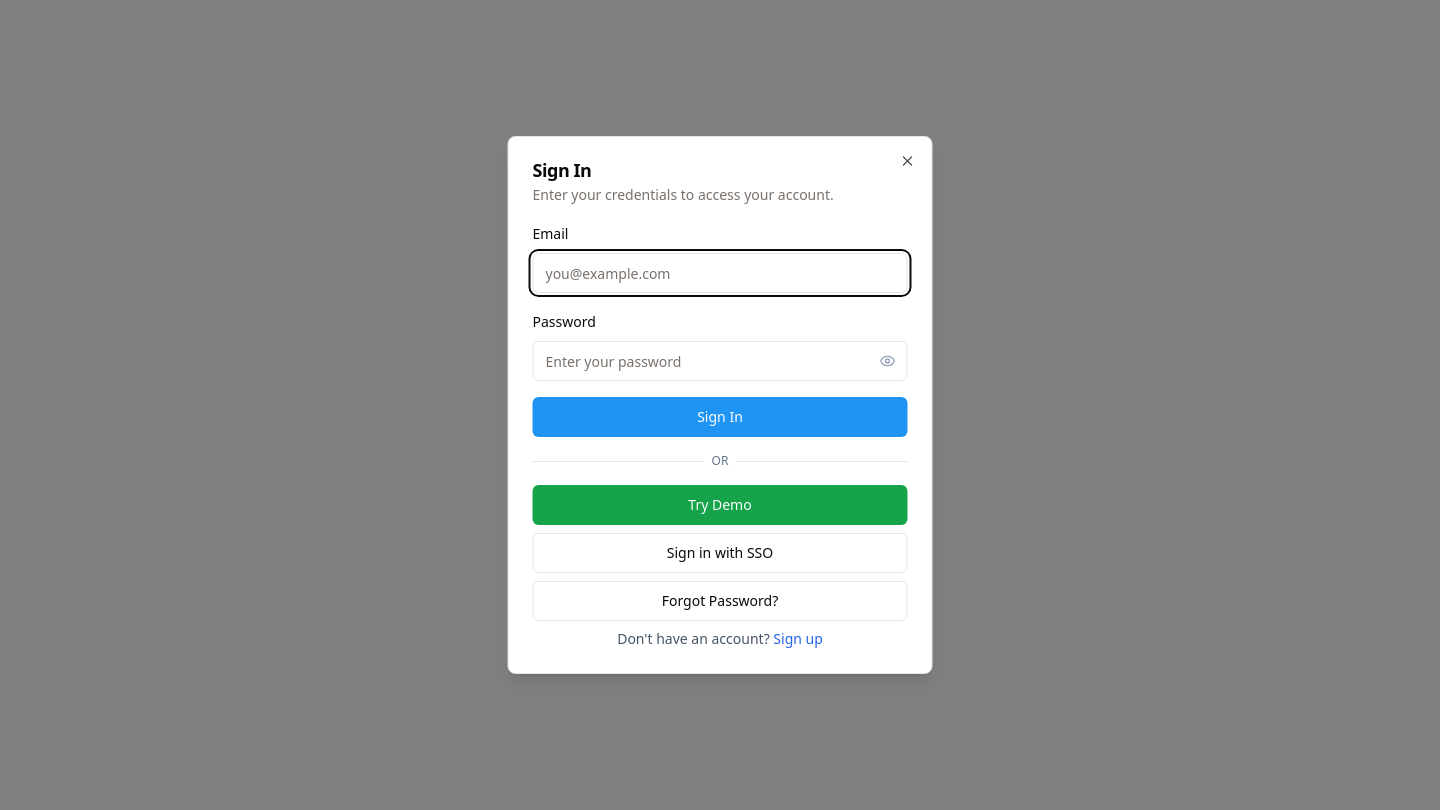
it: AuthModal › switches to sign-up mode when clicking Sign up link
Click the button "Sign up".
click(798, 639)  # box [773,629,823,649]
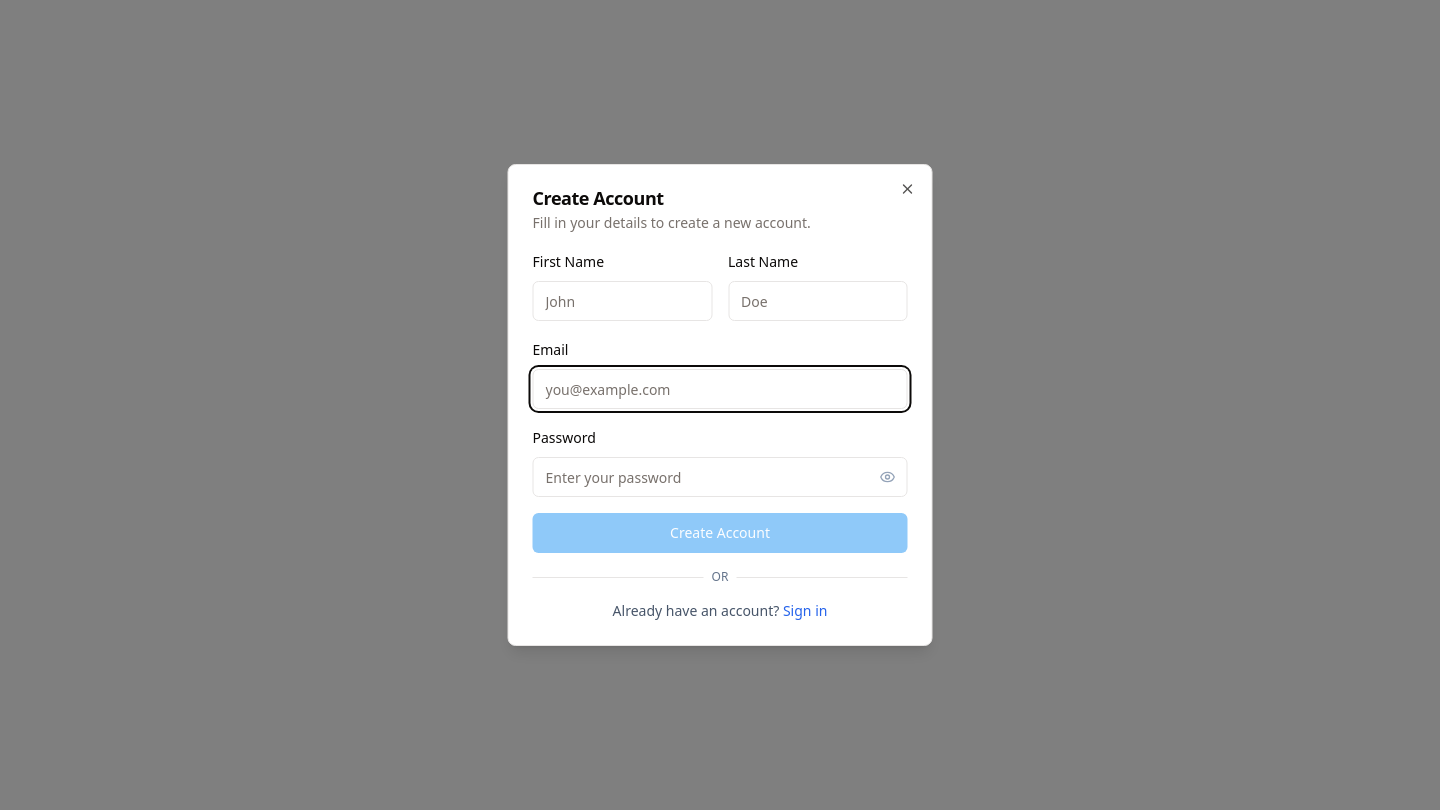
Result: the text "Fill in your details to create a new account." is shown at [532,213,811,232]
Result: the field labelled "First Name" is shown at [532,281,712,321]
Result: the field labelled "Last Name" is shown at [728,281,908,321]
